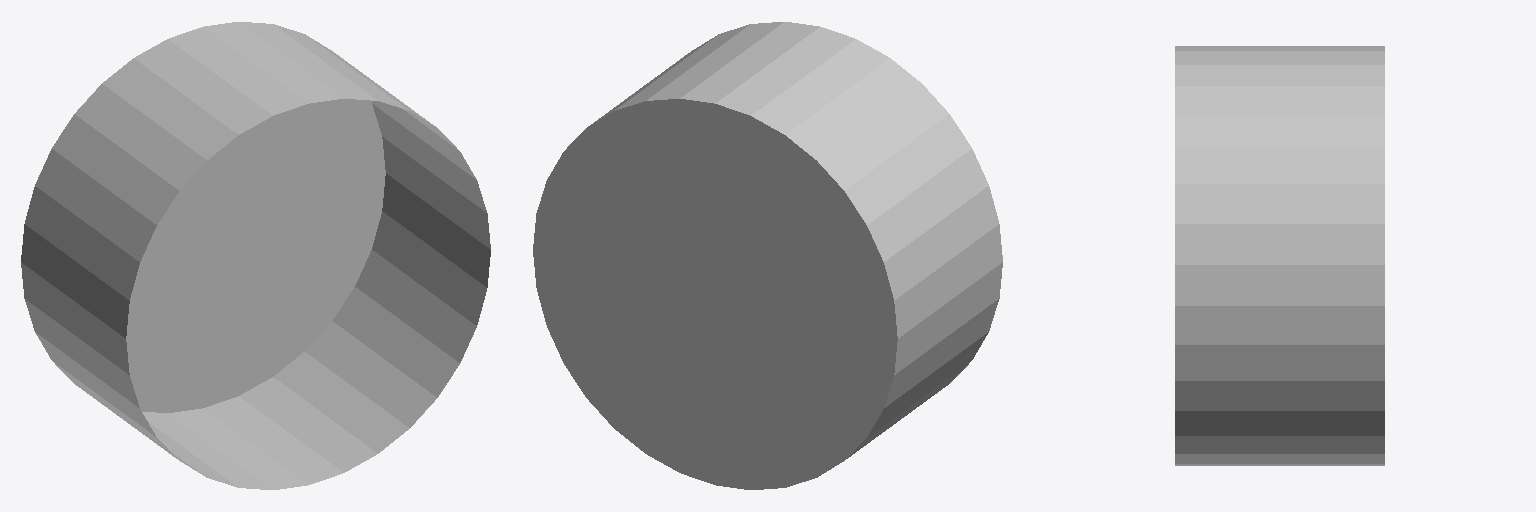
File: gun.obj
The picture shows the model from 3 angles: view 1: azimuth 30°, elevation 25°; view 2: azimuth 150°, elevation 25°; view 3: azimuth 270°, elevation 25°; orthographic projection.
Parts seen in each view (by area): view 1: Cylinder; view 2: Cylinder; view 3: Cylinder.
Boxes of the visible parts, <box> form: Cylinder: <box>21,22,490,489</box>; Cylinder: <box>533,22,1002,489</box>; Cylinder: <box>1175,46,1384,465</box>.
Size of the model in its own units: 1.04 by 1.04 by 0.5176.